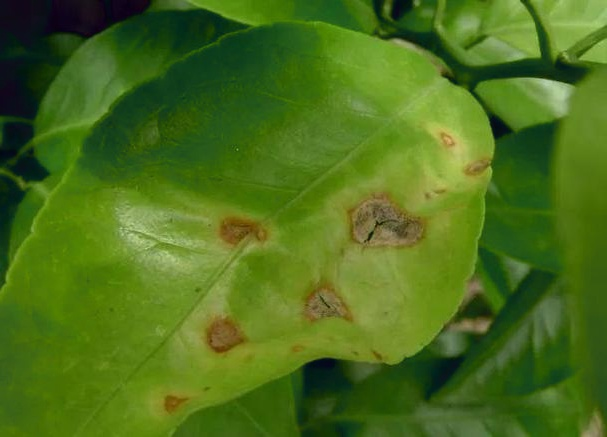Anthracnose: (159, 181, 426, 418)
